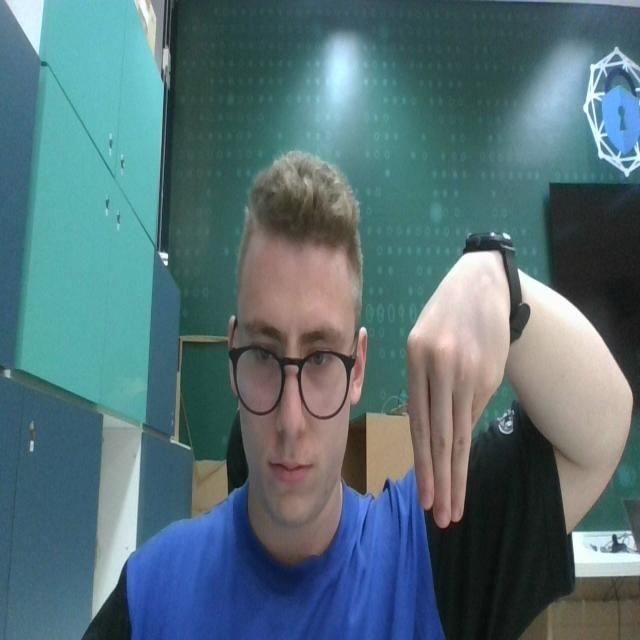M: (404, 256, 507, 535)
